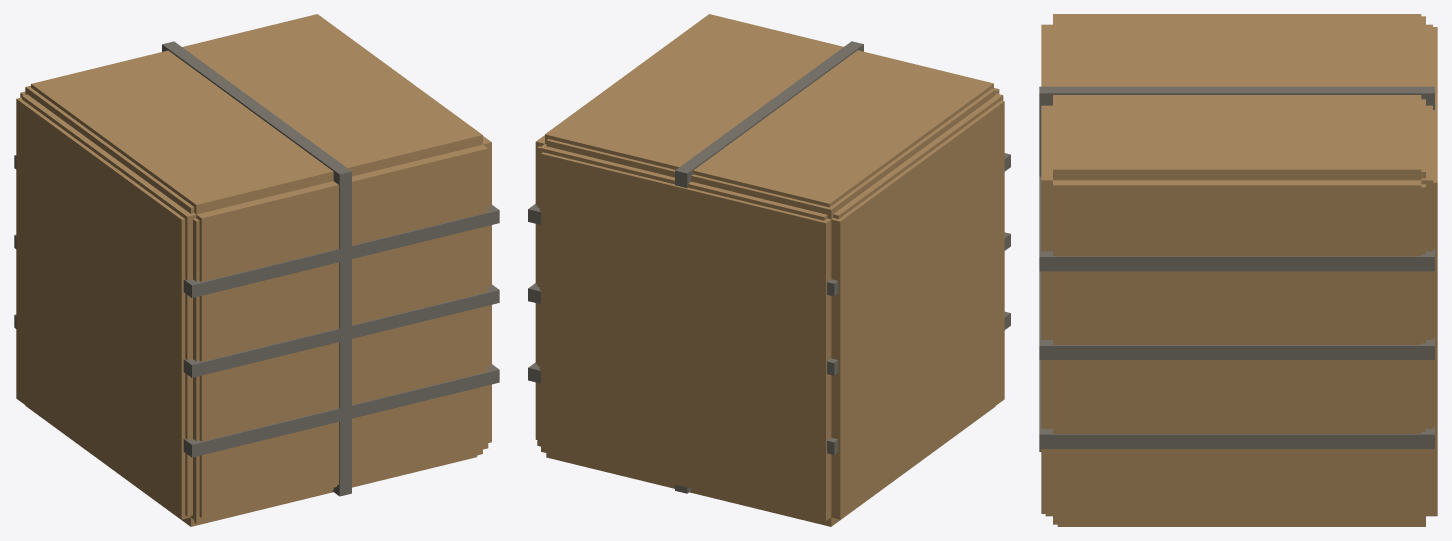
The model's file is crate-claudesonnet46.glb.
3 views of the same model, side by side, from view 1: azimuth 30°, elevation 25°; view 2: azimuth 150°, elevation 25°; view 3: azimuth 270°, elevation 25° (orthographic). The views are drawn at different scales.
Parts seen in each view (by area): view 1: Crate, Strap_V1, Strap_H3, Strap_H1, Strap_H2; view 2: Crate, Strap_V1; view 3: Crate, Strap_H2, Strap_H1, Strap_H3, Strap_V1.
Boxes of the visible parts, left/top/right/bottom form: Crate: left=16, top=14, right=491, bottom=526; Strap_V1: left=162, top=41, right=351, bottom=496; Strap_H3: left=14, top=314, right=499, bottom=457; Strap_H1: left=14, top=234, right=499, bottom=377; Strap_H2: left=14, top=155, right=499, bottom=297; Crate: left=535, top=14, right=1004, bottom=526; Strap_V1: left=675, top=41, right=863, bottom=493; Crate: left=1041, top=14, right=1437, bottom=526; Strap_H2: left=1039, top=176, right=1434, bottom=271; Strap_H1: left=1039, top=271, right=1434, bottom=359; Strap_H3: left=1039, top=360, right=1434, bottom=448; Strap_V1: left=1039, top=86, right=1434, bottom=451.
Bounding box in the file's own units: 1.02 × 1.02 × 1.02.
